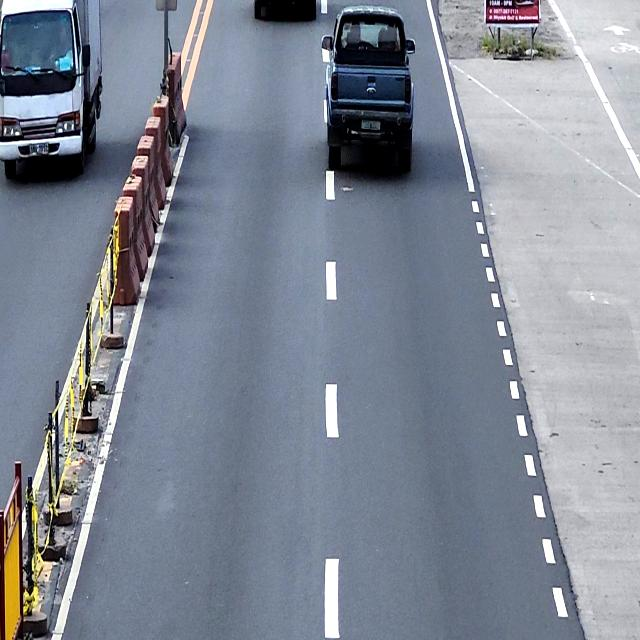Car: (321, 3, 417, 174)
License-Plate: (28, 142, 49, 156), (361, 119, 382, 132)
Truck: (0, 0, 104, 181)
